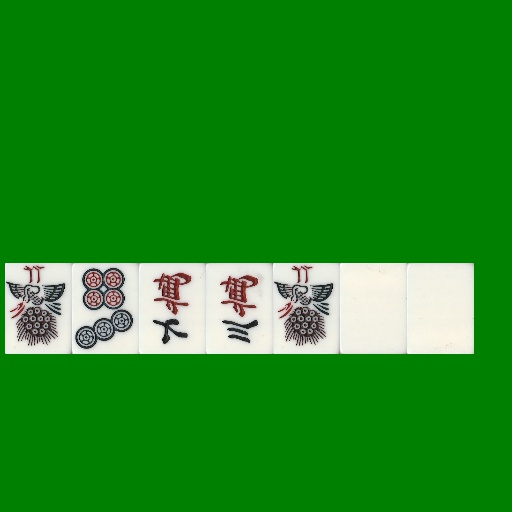1s: (5, 263, 72, 354), (273, 263, 340, 354)
3m: (206, 263, 273, 354)
7m: (139, 263, 206, 354)
7p: (72, 263, 139, 354)
white: (340, 263, 407, 354), (407, 263, 474, 354)
